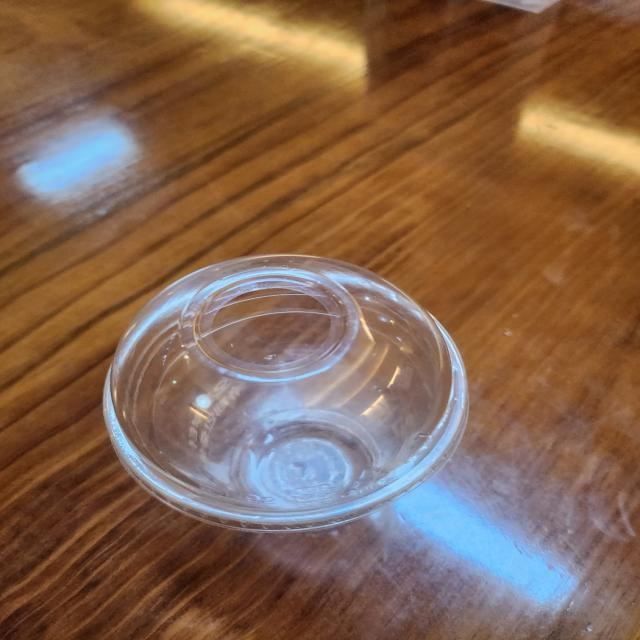plastic_cup_lid: (92, 249, 482, 545)
